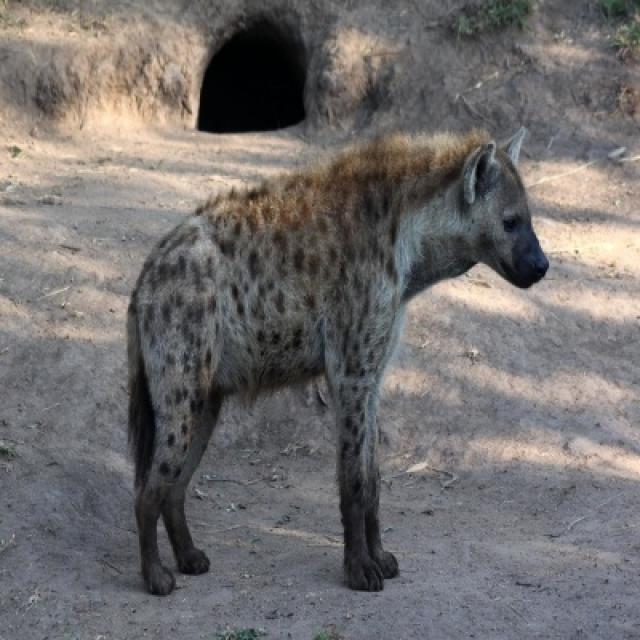hyena: (126, 130, 550, 600)
